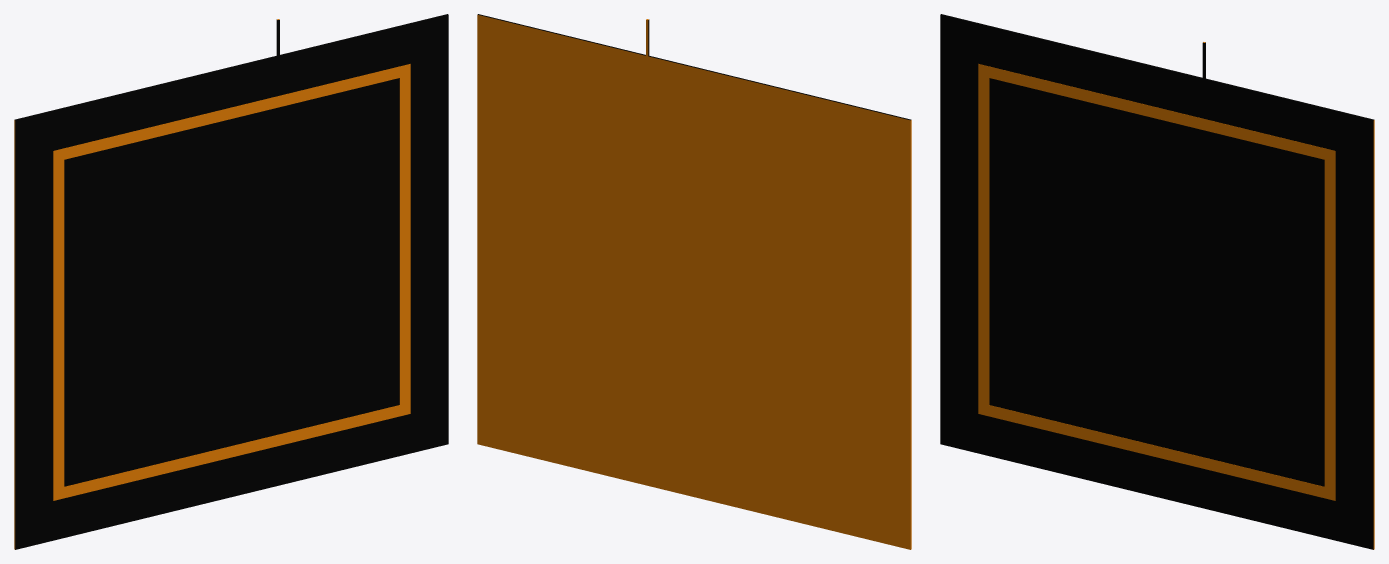
Rendered from charger.obj.
3 views of the same model, side by side, from view 1: azimuth 30°, elevation 25°; view 2: azimuth 150°, elevation 25°; view 3: azimuth 330°, elevation 25° (orthographic).
Parts seen in each view (by area): view 1: mesh19, mesh9, mesh14, mesh3; view 2: mesh5, mesh3; view 3: mesh19, mesh9, mesh14, mesh1.
Boxes of the visible parts, x1,y1,x2,y2 form: mesh19: (64, 78, 399, 486); mesh9: (15, 15, 448, 549); mesh14: (53, 64, 410, 500); mesh3: (14, 120, 15, 549); mesh5: (477, 15, 910, 549); mesh3: (910, 120, 911, 549); mesh19: (989, 78, 1324, 486); mesh9: (940, 15, 1373, 549); mesh14: (978, 64, 1335, 500); mesh1: (1373, 120, 1374, 549).
Size of the model in its own units: 0.0585 by 0.0601 by 0.000254.
